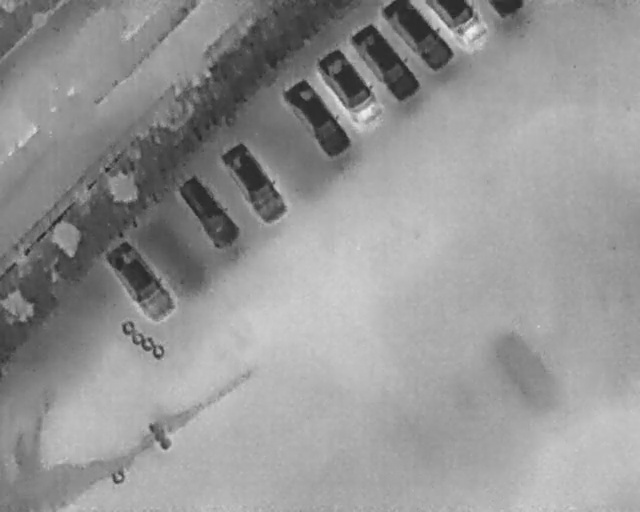Car: (342, 16, 426, 110), (99, 234, 181, 329), (308, 41, 389, 133), (278, 72, 358, 165), (216, 138, 293, 230), (172, 168, 247, 257), (381, 0, 455, 72), (425, 0, 491, 49), (487, 0, 526, 18)
